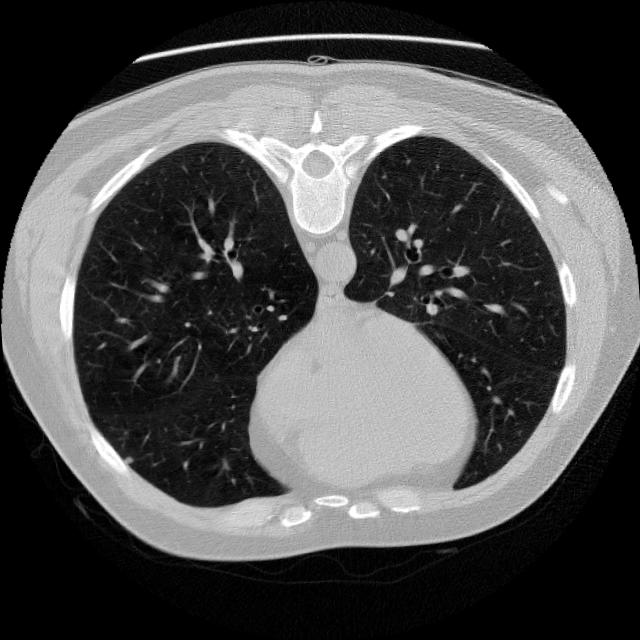nodule: (115, 450, 136, 470)
